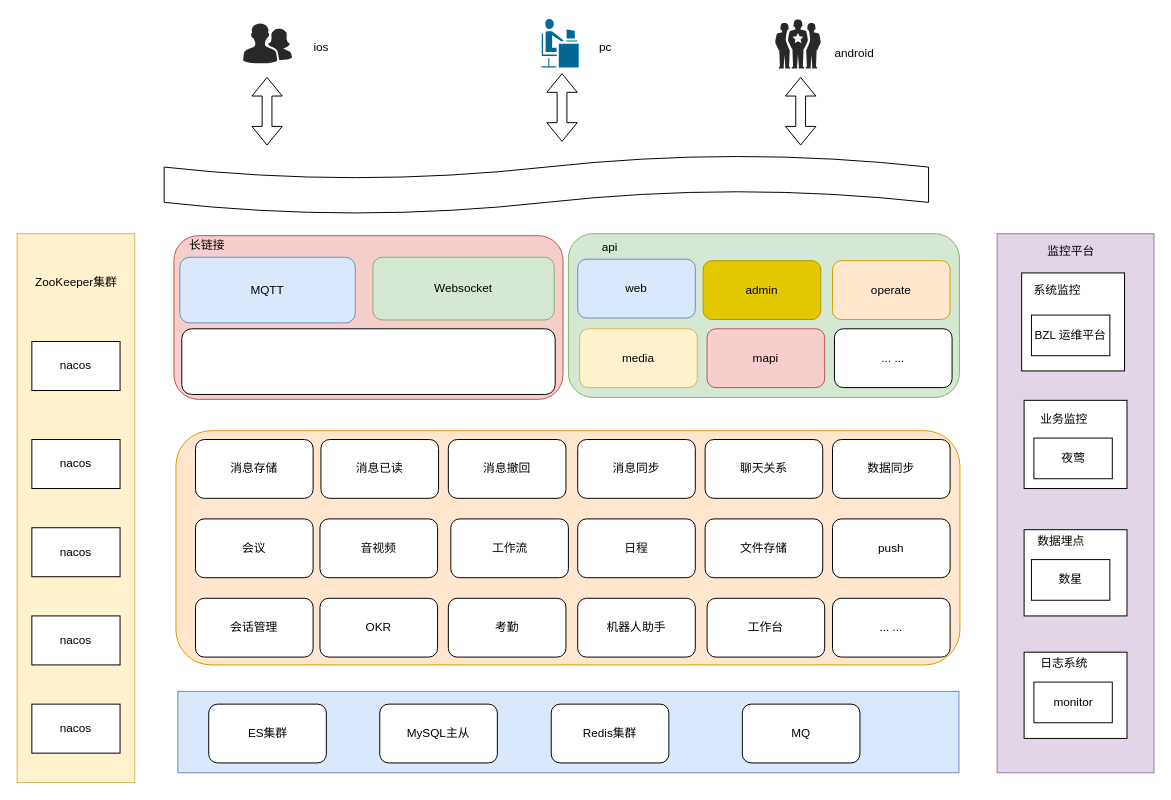
Image size: 1171x800. Some labels were removed from this diagram. Here are the shapes that lost their labels. From the top down, the box of each, then its label:
(163, 154, 929, 214): 网关？？？
(181, 328, 555, 394): MQTT-common
